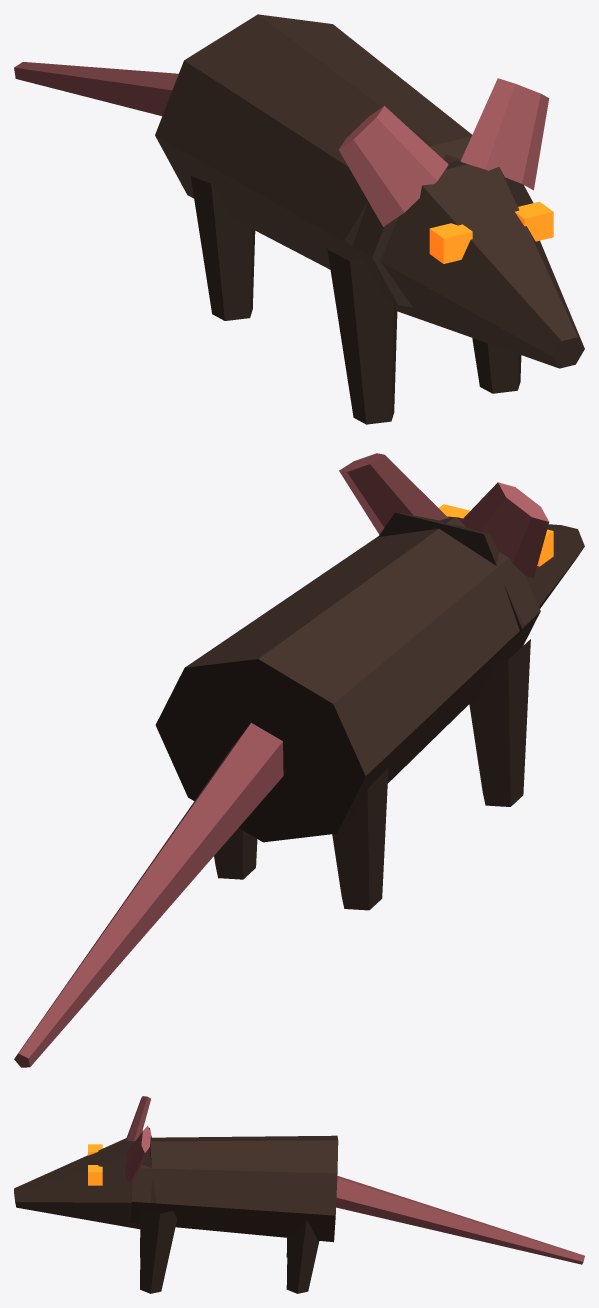
Rendered from rat.glb.
The picture shows the model from 3 angles, top to bottom: view 1: azimuth 30°, elevation 25°; view 2: azimuth 150°, elevation 25°; view 3: azimuth 270°, elevation 25°; orthographic projection. The views are drawn at different scales.
Visible parts, largest first — view 1: rat_body, rat_head, rat_leg_fr, rat_leg_br, rat_tail, rat_leg_fl; view 2: rat_body, rat_tail, rat_head, rat_leg_fr, rat_leg_br, rat_leg_bl; view 3: rat_body, rat_head, rat_tail, rat_leg_fl, rat_leg_bl.
Boxes of the visible parts, box(x1,y1,x2,y2) form: rat_body: box(155, 14, 533, 306); rat_head: box(338, 78, 584, 368); rat_leg_fr: box(327, 249, 397, 424); rat_leg_br: box(190, 176, 255, 320); rat_tail: box(14, 62, 178, 115); rat_leg_fl: box(472, 338, 521, 393); rat_body: box(155, 517, 540, 842); rat_tail: box(14, 722, 283, 1067); rat_head: box(339, 453, 584, 640); rat_leg_fr: box(469, 639, 530, 806); rat_leg_br: box(332, 767, 388, 910); rat_leg_bl: box(214, 828, 257, 879); rat_body: box(130, 1135, 338, 1242); rat_head: box(14, 1096, 156, 1229); rat_tail: box(336, 1175, 584, 1264); rat_leg_fl: box(140, 1208, 177, 1293); rat_leg_bl: box(286, 1219, 319, 1293).
Size of the model in its own units: 0.3902 by 0.5557 by 1.76.
